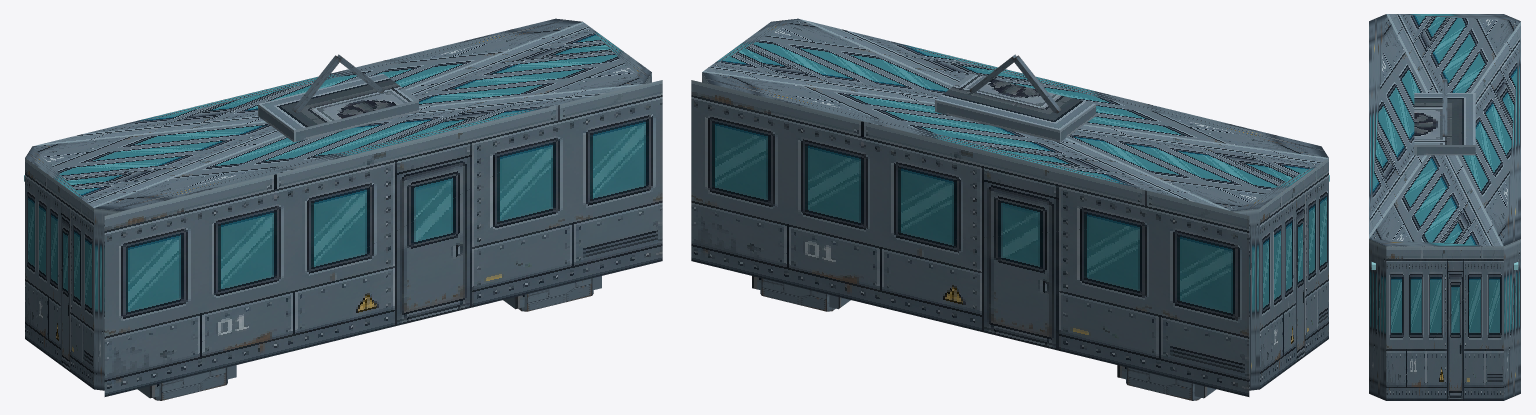
The model's file is train_car.glb.
3 views of the same model, side by side, from view 1: azimuth 30°, elevation 25°; view 2: azimuth 150°, elevation 25°; view 3: azimuth 270°, elevation 25° (orthographic). The views are drawn at different scales.
Visible parts, largest first — view 1: train_car; view 2: train_car; view 3: train_car.
Part boxes in pixels (left/top/right/bottom): train_car: left=24, top=18, right=662, bottom=400; train_car: left=691, top=18, right=1329, bottom=400; train_car: left=1369, top=14, right=1520, bottom=400.
Size of the model in its own units: 5.8 by 2.63 by 1.62.
Materials: 3 (2 with a texture image).
